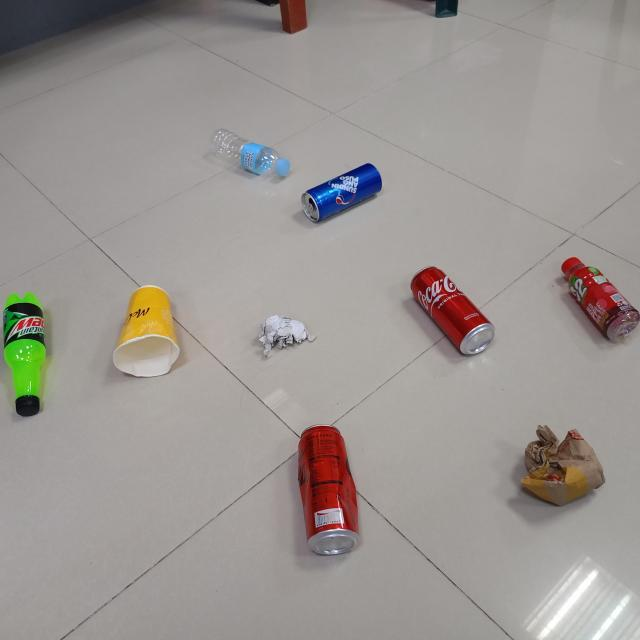recyclable waste: (293, 420, 366, 562), (406, 260, 500, 362), (514, 420, 611, 510), (107, 280, 187, 384), (556, 252, 640, 346), (0, 286, 50, 421), (298, 158, 388, 226), (205, 124, 292, 180), (254, 310, 319, 364)
